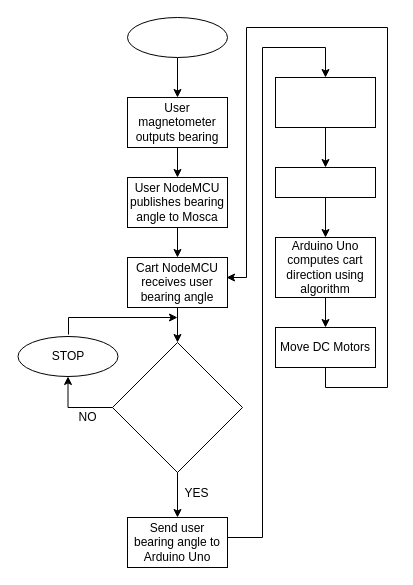
Some shapes in this 413 by 585 pixel diagram are drawn without their labels. Each missing label, with the centre of its shape:
"Calculate Δ" belongs at pixel 325 182.
"Cart magnetometer outputs bearing" belongs at pixel 325 102.
"Is distance between Cart & User >= threshold ?" belongs at pixel 177 407.
"START" belongs at pixel 177 37.
